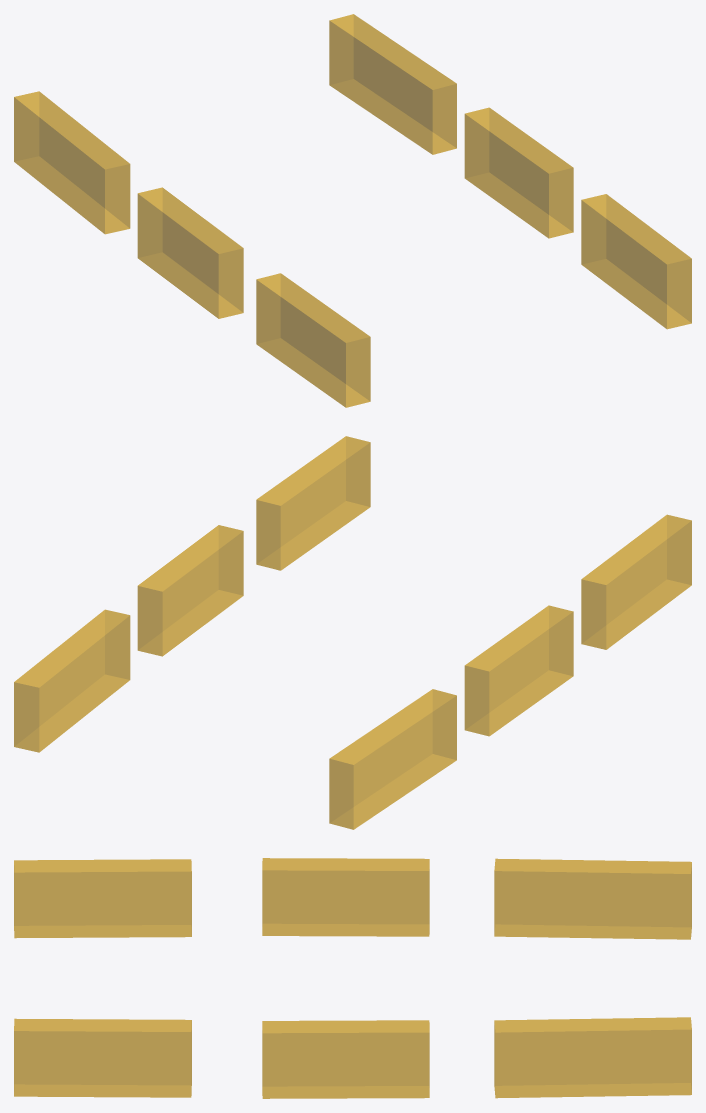
Rendered from SM_Veh_Ship_M_Middle_03_Collision.fbx.
The picture shows the model from 3 angles, top to bottom: view 1: azimuth 30°, elevation 25°; view 2: azimuth 150°, elevation 25°; view 3: azimuth 270°, elevation 25°; orthographic projection.
Parts seen in each view (by area): view 1: SM_Veh_Ship_M_Middle_03_Collision; view 2: SM_Veh_Ship_M_Middle_03_Collision; view 3: SM_Veh_Ship_M_Middle_03_Collision.
Part boxes in pixels (x1,y1,x2,y2): SM_Veh_Ship_M_Middle_03_Collision: [14, 14, 691, 407]; SM_Veh_Ship_M_Middle_03_Collision: [14, 436, 691, 829]; SM_Veh_Ship_M_Middle_03_Collision: [14, 858, 691, 1098].
Size of the model in its own units: 709 by 124 by 1160.
